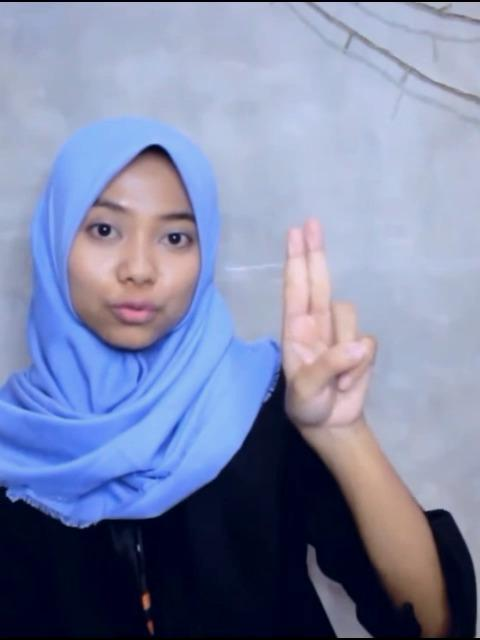U: (272, 208, 378, 430)
